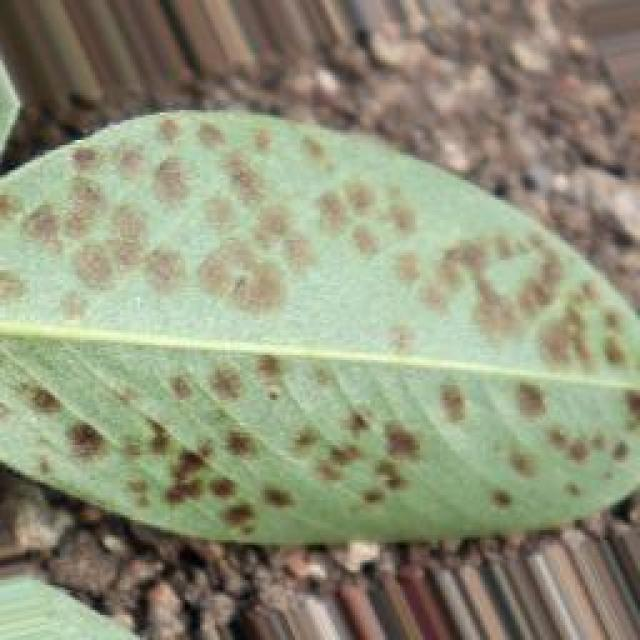Whitefly: (0, 107, 640, 551)
